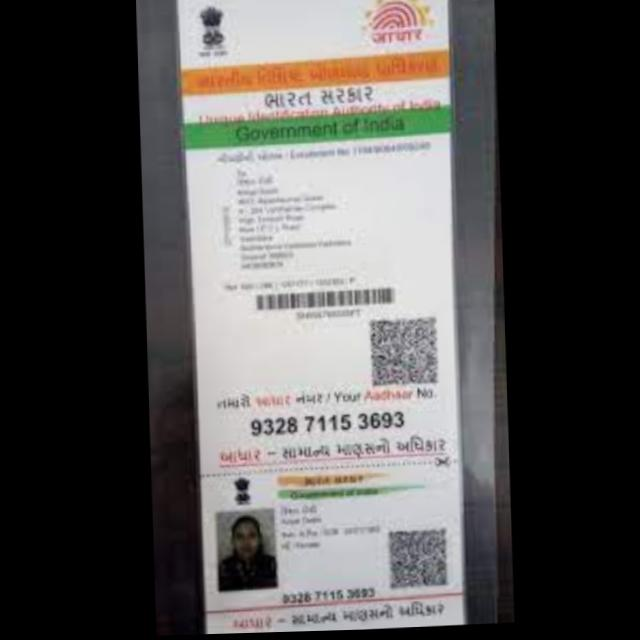aadhaar: (189, 458, 471, 636)
